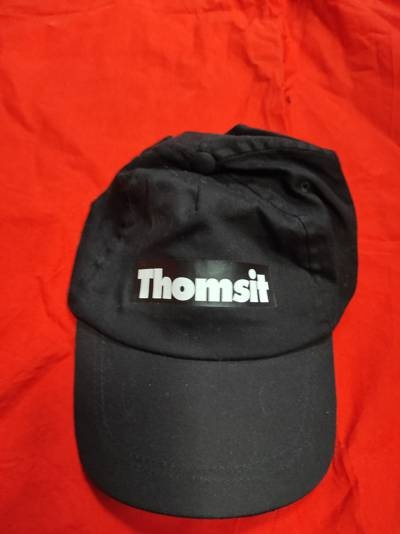Hat: (20, 86, 355, 516)
